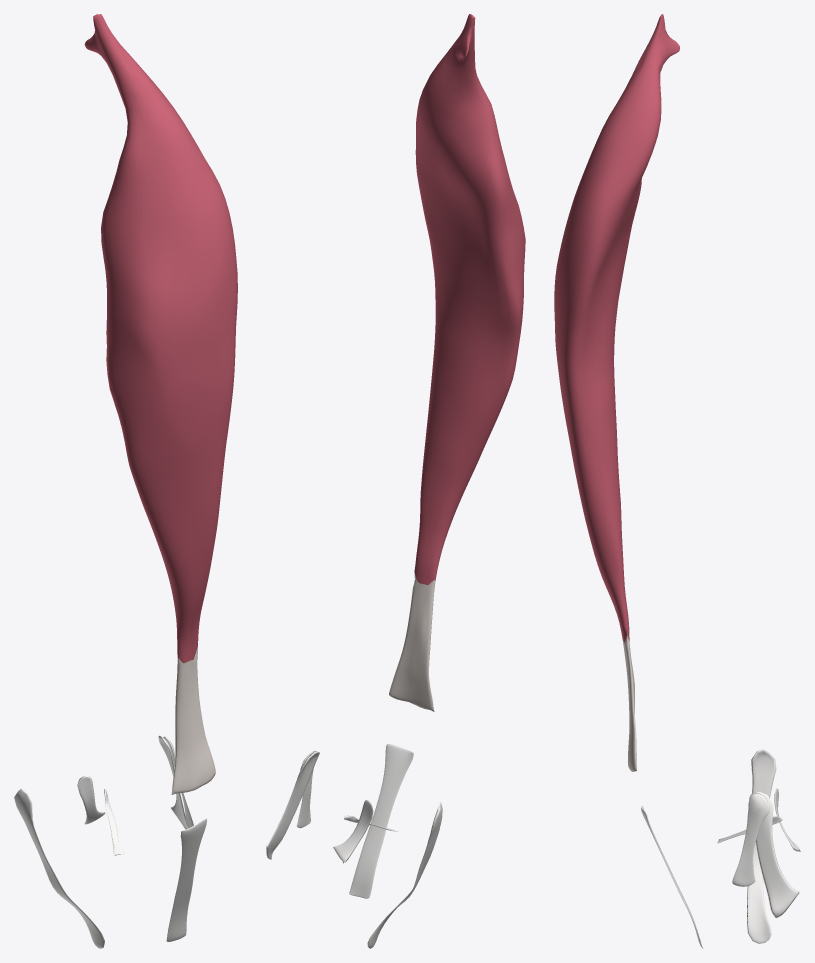
File: VH_M_Knee_L_Landmarks.glb
3 renders of one model, left to right at view 1: azimuth 30°, elevation 25°; view 2: azimuth 150°, elevation 25°; view 3: azimuth 270°, elevation 25°, orthographic. The views are drawn at different scales.
Visible parts, largest first — view 1: VH_M_knee_L_landmark_rectus_femoris, VH_M_knee_L_landmark_ligaments; view 2: VH_M_knee_L_landmark_rectus_femoris, VH_M_knee_L_landmark_ligaments; view 3: VH_M_knee_L_landmark_rectus_femoris, VH_M_knee_L_landmark_ligaments.
Boxes of the visible parts, box(x1,y1,x2,y2) form: VH_M_knee_L_landmark_rectus_femoris: box(84, 14, 237, 794); VH_M_knee_L_landmark_ligaments: box(14, 735, 206, 948); VH_M_knee_L_landmark_rectus_femoris: box(389, 14, 525, 711); VH_M_knee_L_landmark_ligaments: box(266, 744, 442, 948); VH_M_knee_L_landmark_rectus_femoris: box(554, 14, 679, 771); VH_M_knee_L_landmark_ligaments: box(641, 748, 800, 948).
Bounding box in the file's own units: 0.1096 × 0.5747 × 0.1418.
